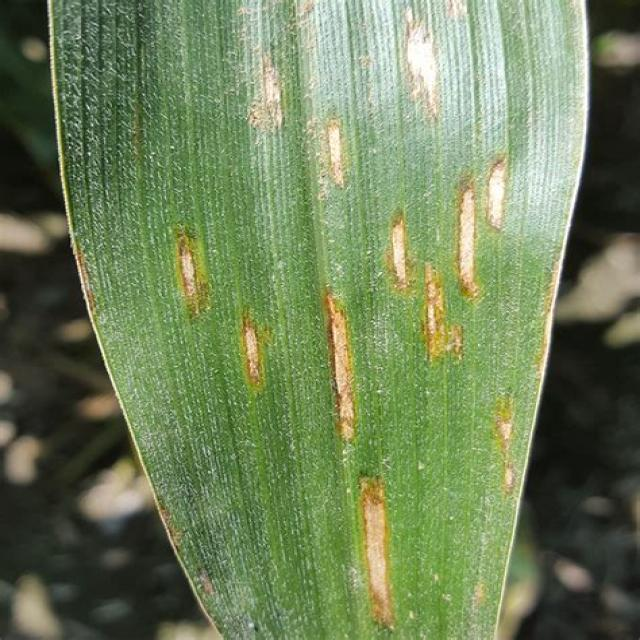blight: (280, 152, 487, 621)
